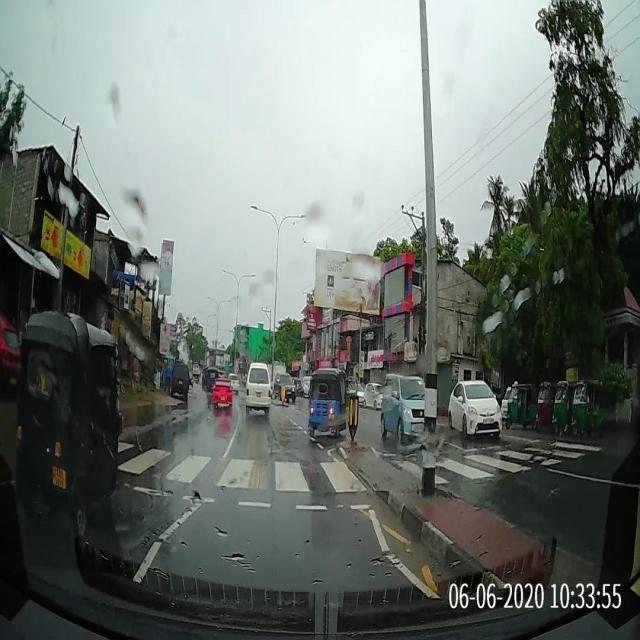Crosswalk: (119, 436, 610, 511)
